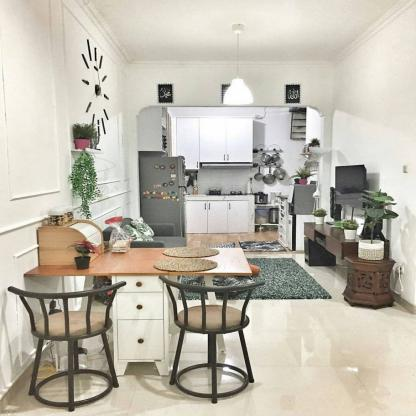kursi: (10, 283, 127, 408), (149, 280, 266, 404)
tanaman: (342, 194, 397, 260)
